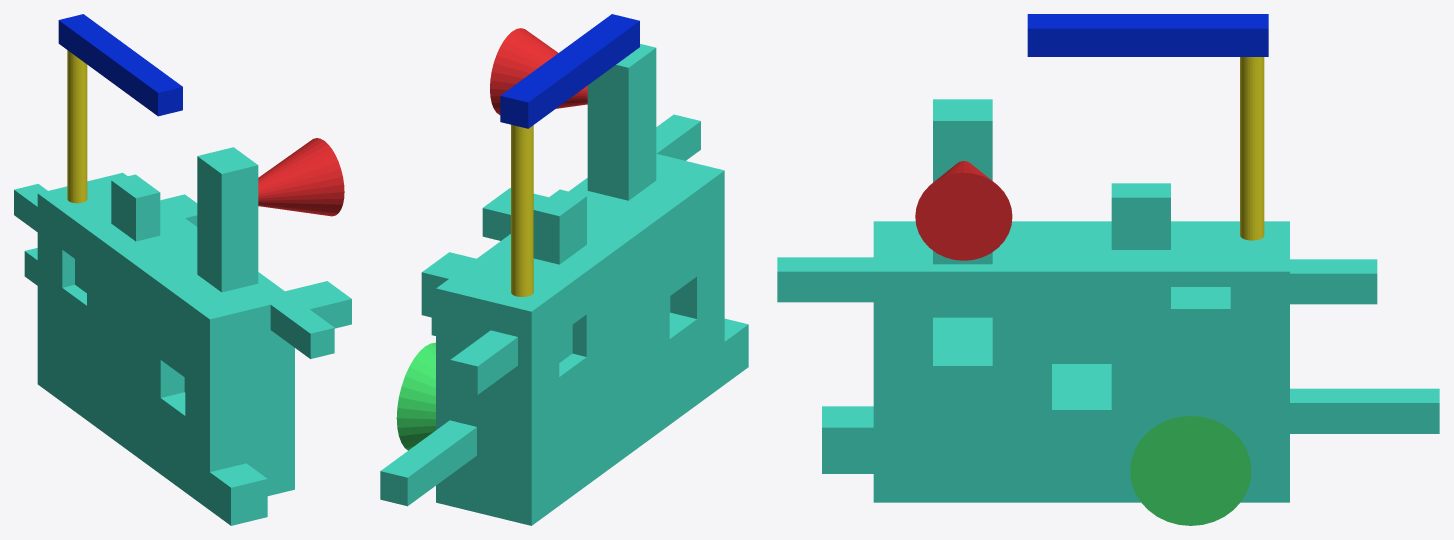
The model's file is Alice_AR.glb.
3 renders of one model, left to right at view 1: azimuth 30°, elevation 25°; view 2: azimuth 150°, elevation 25°; view 3: azimuth 270°, elevation 25°, orthographic. The views are drawn at different scales.
Parts seen in each view (by area): view 1: Cube, blue flag, Cone.001, Cylinder; view 2: Cube, blue flag, Cylinder, Cone, Cone.001; view 3: Cube, Cone, blue flag, Cone.001, Cylinder.
Boxes of the visible parts, left/top/right/bottom form: Cube: left=14, top=147, right=351, bottom=525; blue flag: left=58, top=14, right=182, bottom=116; Cone.001: left=258, top=138, right=344, bottom=216; Cylinder: left=67, top=50, right=87, bottom=203; Cube: left=380, top=44, right=748, bottom=525; blue flag: left=500, top=14, right=639, bottom=128; Cylinder: left=511, top=124, right=533, bottom=296; Cone: left=396, top=342, right=435, bottom=450; Cone.001: left=490, top=28, right=587, bottom=114; Cube: left=777, top=99, right=1439, bottom=502; Cone: left=1130, top=416, right=1251, bottom=525; blue flag: left=1027, top=14, right=1268, bottom=56; Cone.001: left=915, top=161, right=1012, bottom=260; Cylinder: left=1240, top=57, right=1264, bottom=240.
Bounding box in the file's own units: 3.83 × 8.09 × 10.9.
